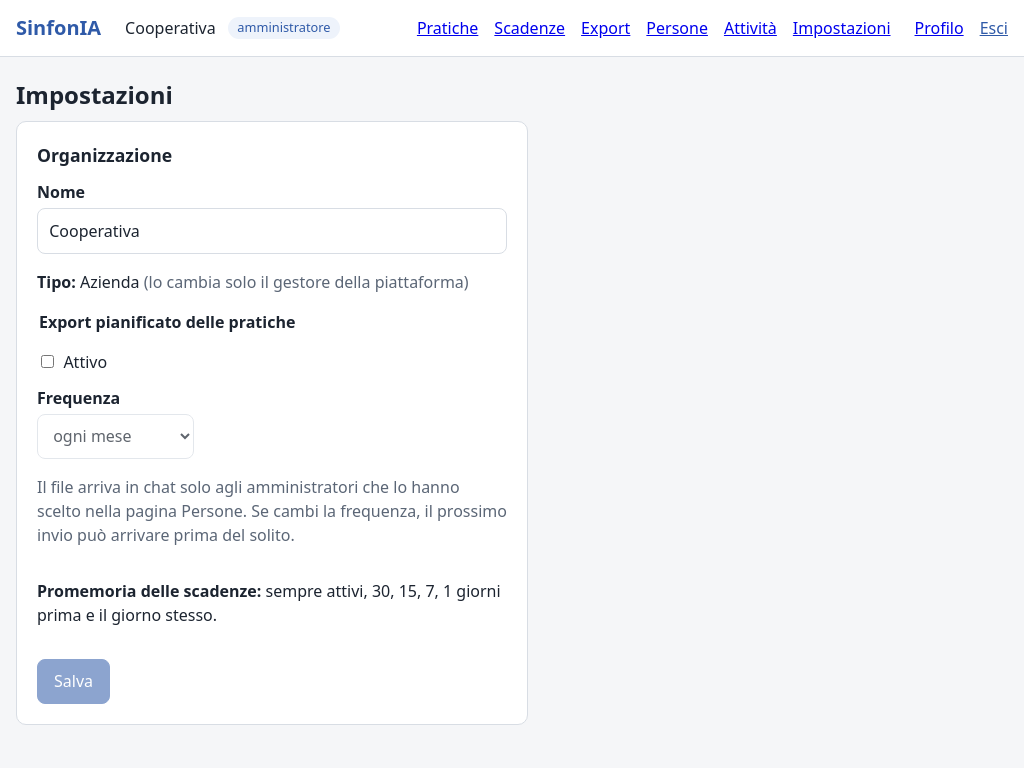
it: settings (P12) › saves name and scheduled export, then shows the new name in the header
Check: the button "Salva" is disabled, box 37,659 -> 110,704
Check: the dropdown labelled "Frequenza" is disabled, box 37,414 -> 194,459
Replace the text in the field labelled "Nome" with "Cooperativa Nuova". click: (272, 231)
box: 37,208 -> 507,254
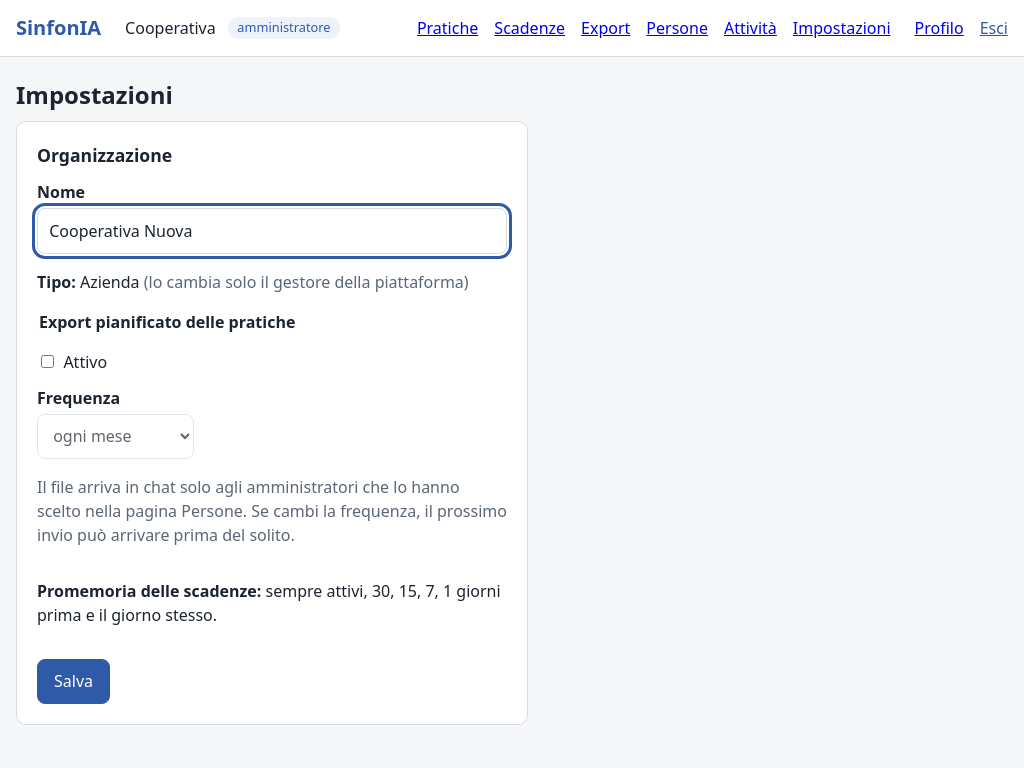
Click the checkbox labelled "Attivo". click: (48, 362)
box: 41,355 -> 54,368
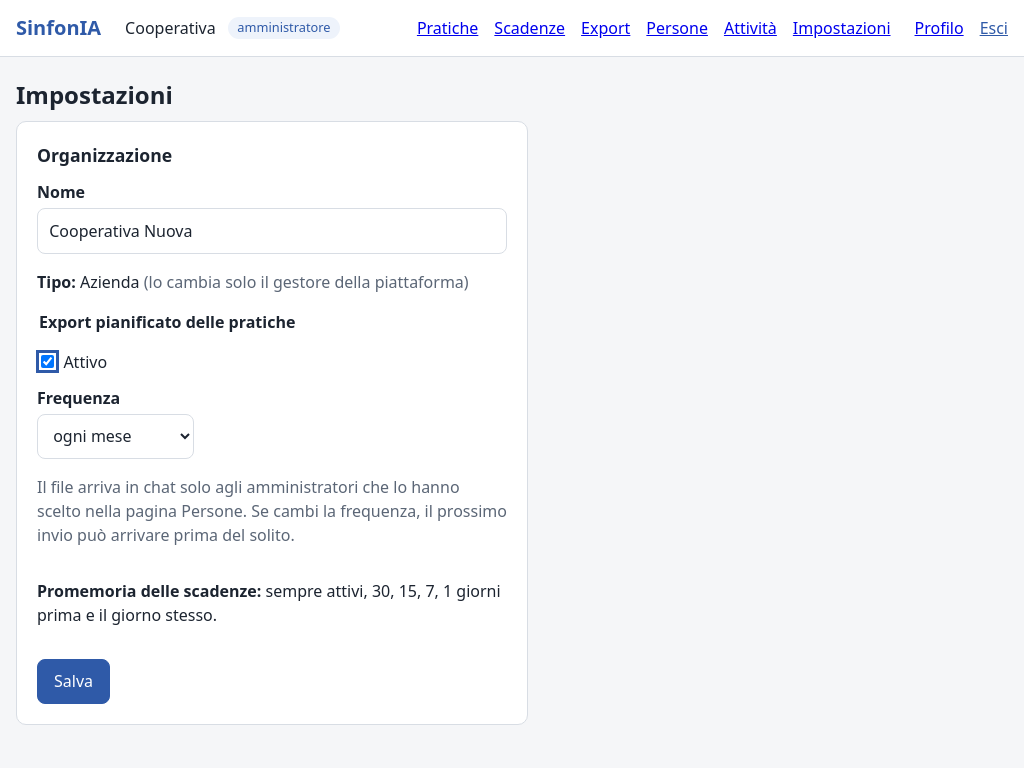
Select "ogni settimana" in the dropdown labelled "Frequenza". click: (116, 436)
box: 37,414 -> 194,459
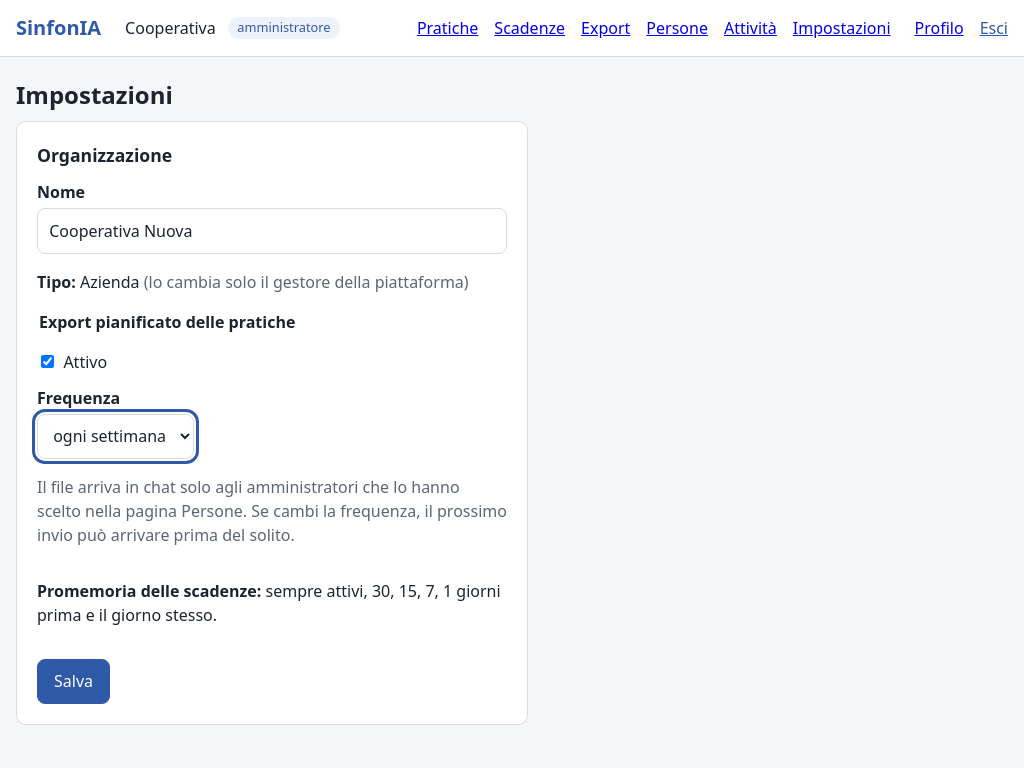
Click the button "Salva". click: (74, 681)
box: 37,659 -> 110,704
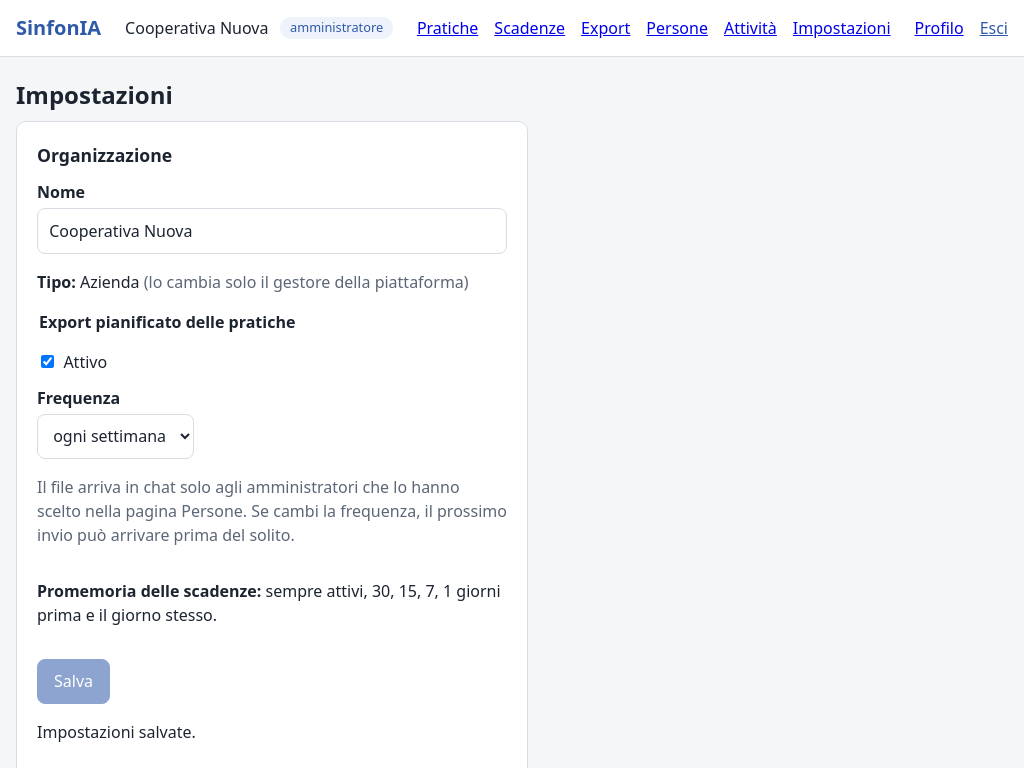
Check: the text "30, 15, 7, 1 giorni prima" is shown, box 37,579 -> 507,627
Check: the message "Impostazioni salvate." is shown, box 37,721 -> 196,743
Check: the text "Cooperativa Nuova" is shown, box 125,16 -> 268,40
